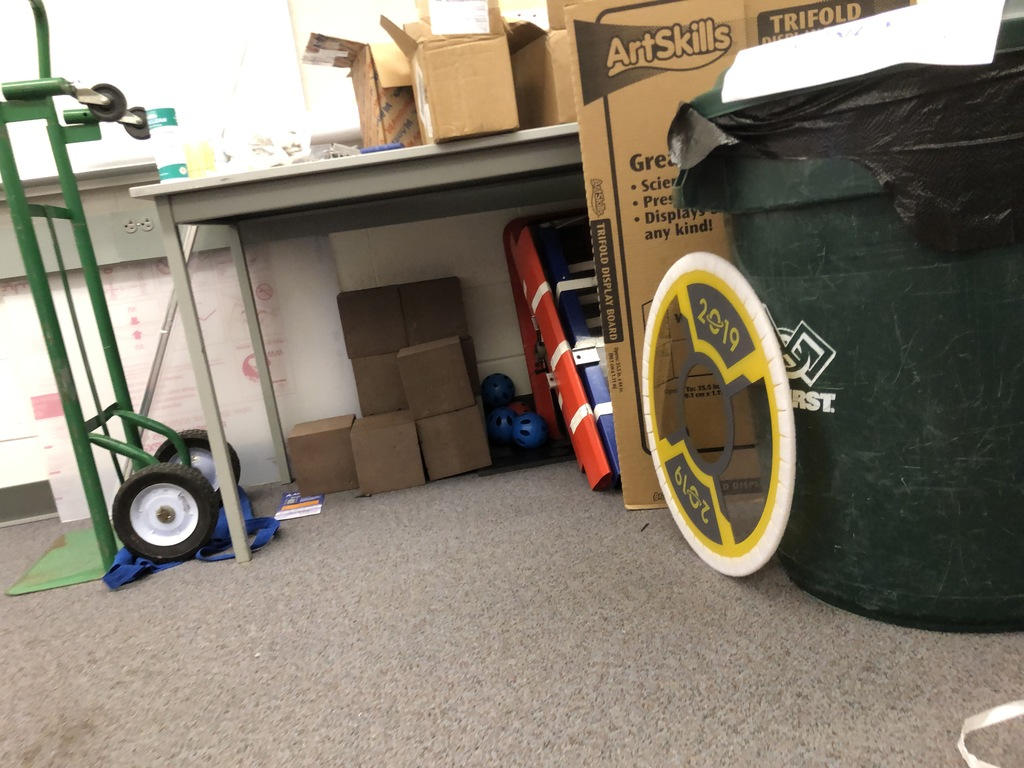hatch_panel: (634, 240, 815, 611)
